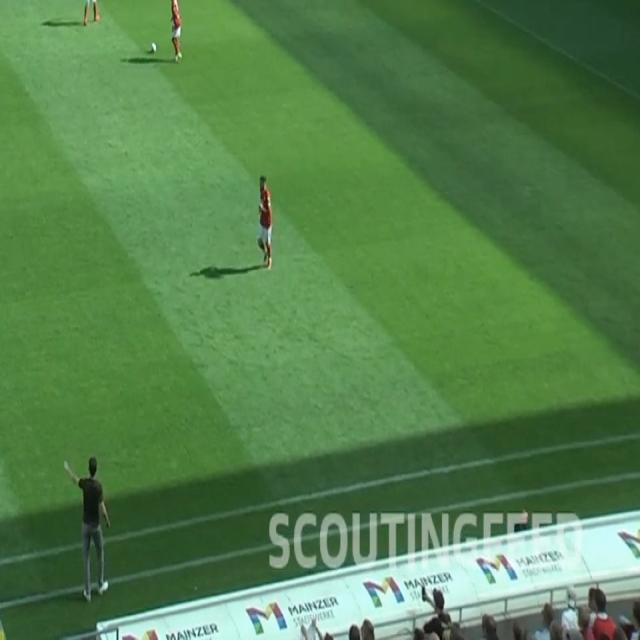ball: (149, 42, 157, 55)
